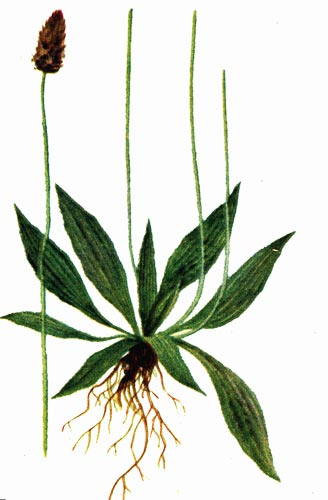buckhorn plantain: (72, 6, 296, 489), (17, 3, 80, 147)
